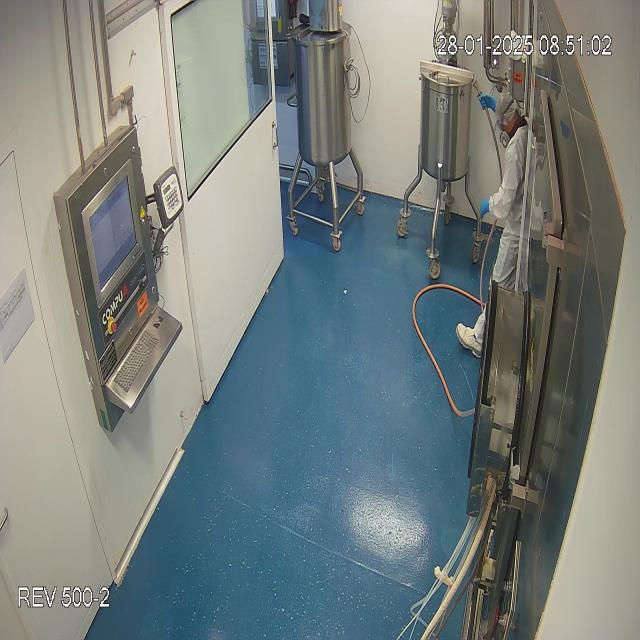bota: (456, 310, 486, 363)
pessoa: (455, 93, 528, 358)
touca: (493, 93, 523, 139)
